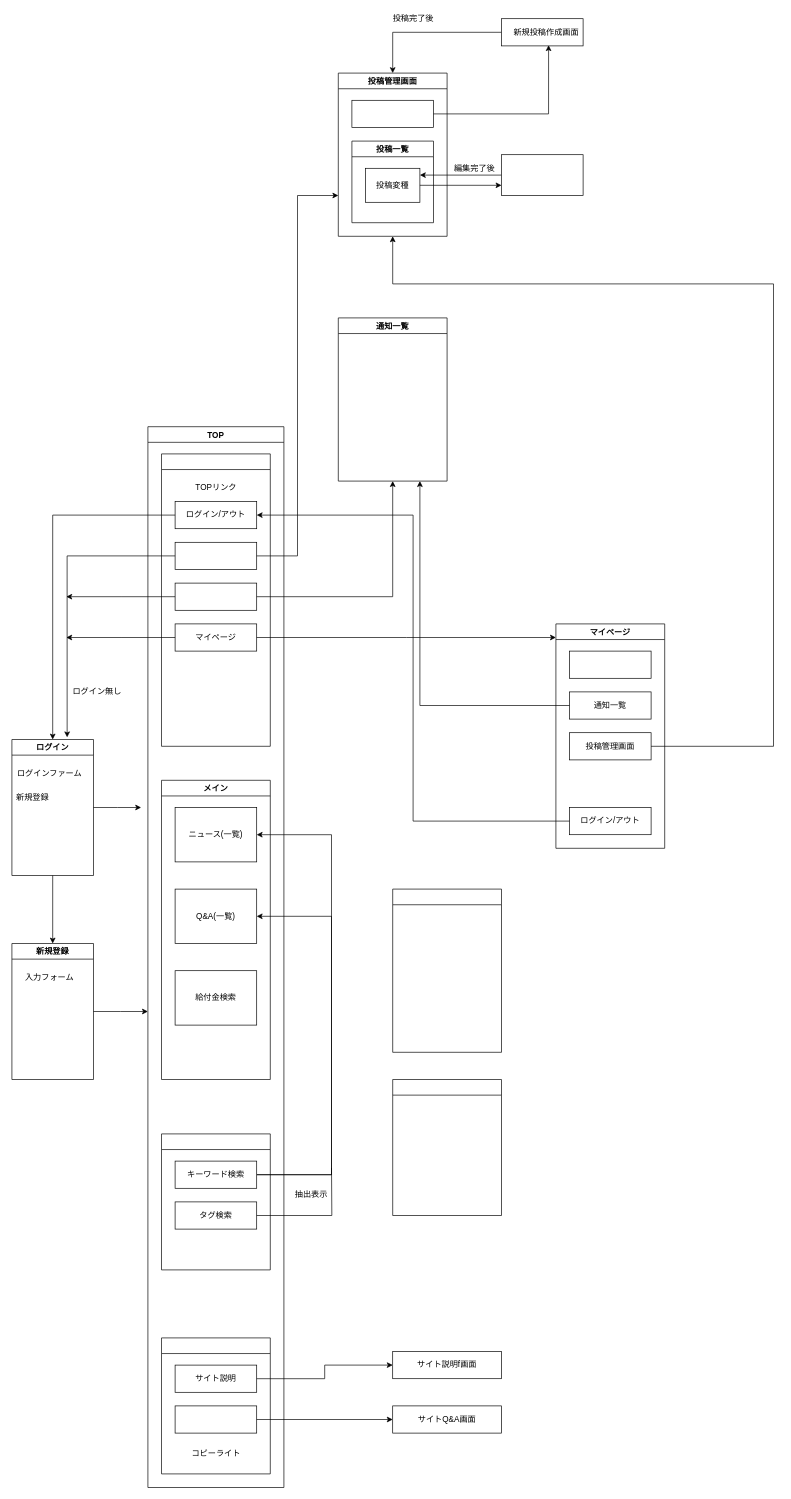
Some shapes in this 791 by 1499 pixel diagram are drawn without their labels. Here are the shapes that lost their labels. From the top down, the box of each, then its label:
(351, 100, 434, 128): 新規投稿
(501, 154, 583, 196): 編集、削除画面
(174, 542, 257, 570): 投稿画面
(174, 582, 257, 610): 通知
(161, 453, 270, 746): ヘッダー(共通)
(569, 650, 651, 678): 個人情報編集
(392, 888, 502, 1052): ニュース詳細
(392, 1079, 502, 1216): Q&A詳細
(161, 1133, 270, 1270): サイドバー(共通)
(161, 1337, 270, 1474): フッター(共通)
(174, 1405, 257, 1433): サイトQ&A
